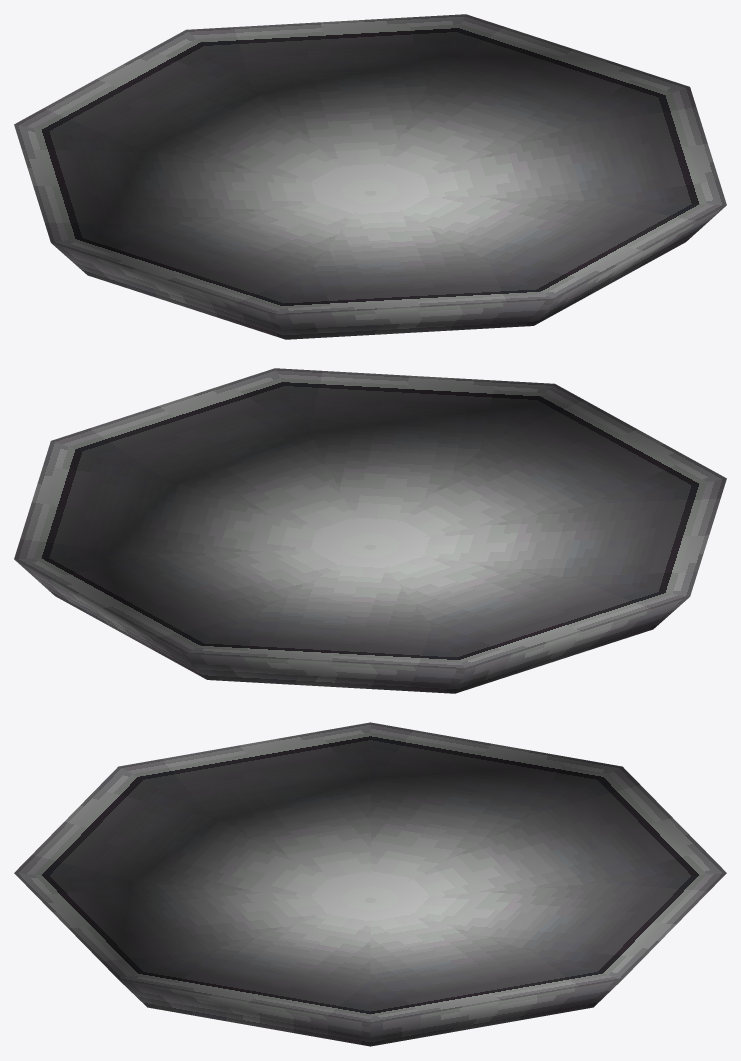
The model's file is plate.glb.
3 views of the same model, one above another, from view 1: azimuth 30°, elevation 25°; view 2: azimuth 150°, elevation 25°; view 3: azimuth 270°, elevation 25° (orthographic). The views are drawn at different scales.
Bounding box in the file's own units: 0.4974 × 0.0309 × 0.4974.
Materials: 1 (1 with a texture image).
